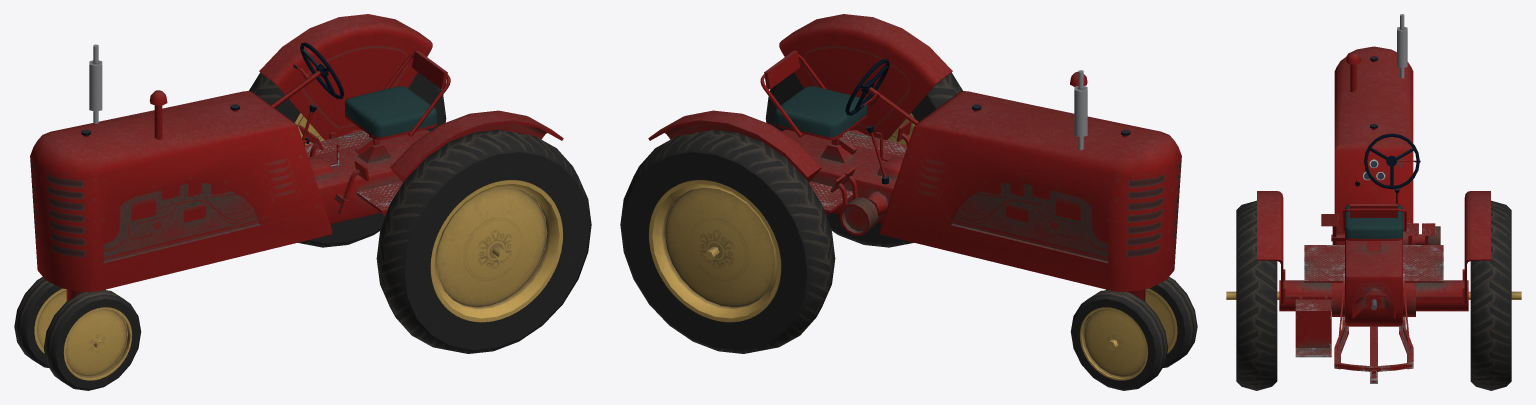
Rendered from tractor.glb.
The picture shows the model from 3 angles, left to right: view 1: azimuth 30°, elevation 25°; view 2: azimuth 150°, elevation 25°; view 3: azimuth 270°, elevation 25°; orthographic projection. The views are drawn at different scales.
Parts seen in each view (by area): view 1: Part3_low001, defaultMaterial (×2); view 2: Part3_low001, defaultMaterial (×2); view 3: Part3_low001, defaultMaterial.
Part boxes in pixels (x1,y1,x2,y2): Part3_low001: [30, 14, 563, 301]; defaultMaterial (×2): [14, 72, 591, 390]; Part3_low001: [648, 14, 1181, 301]; defaultMaterial (×2): [620, 72, 1197, 390]; Part3_low001: [1257, 14, 1490, 383]; defaultMaterial: [1226, 200, 1521, 390].
Size of the model in its own units: 2 by 1.14 by 1.22.
1 material, 1 textured.
